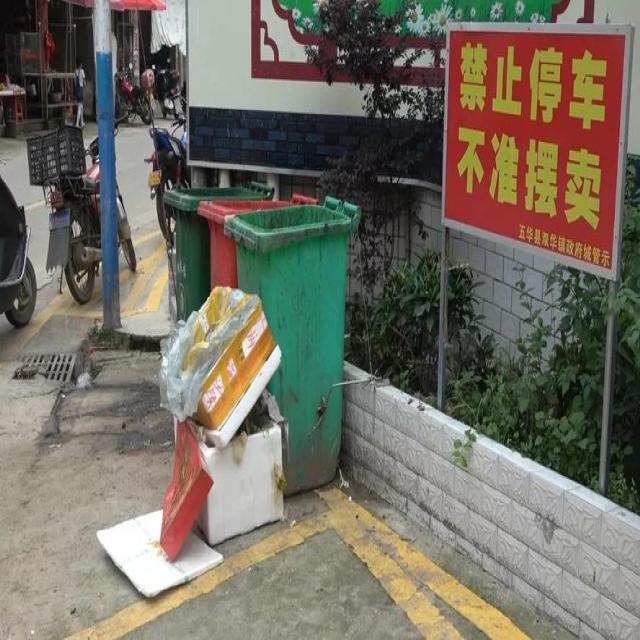garbage: (92, 285, 289, 599)
garbage_bin: (222, 196, 360, 498), (163, 180, 210, 314)
